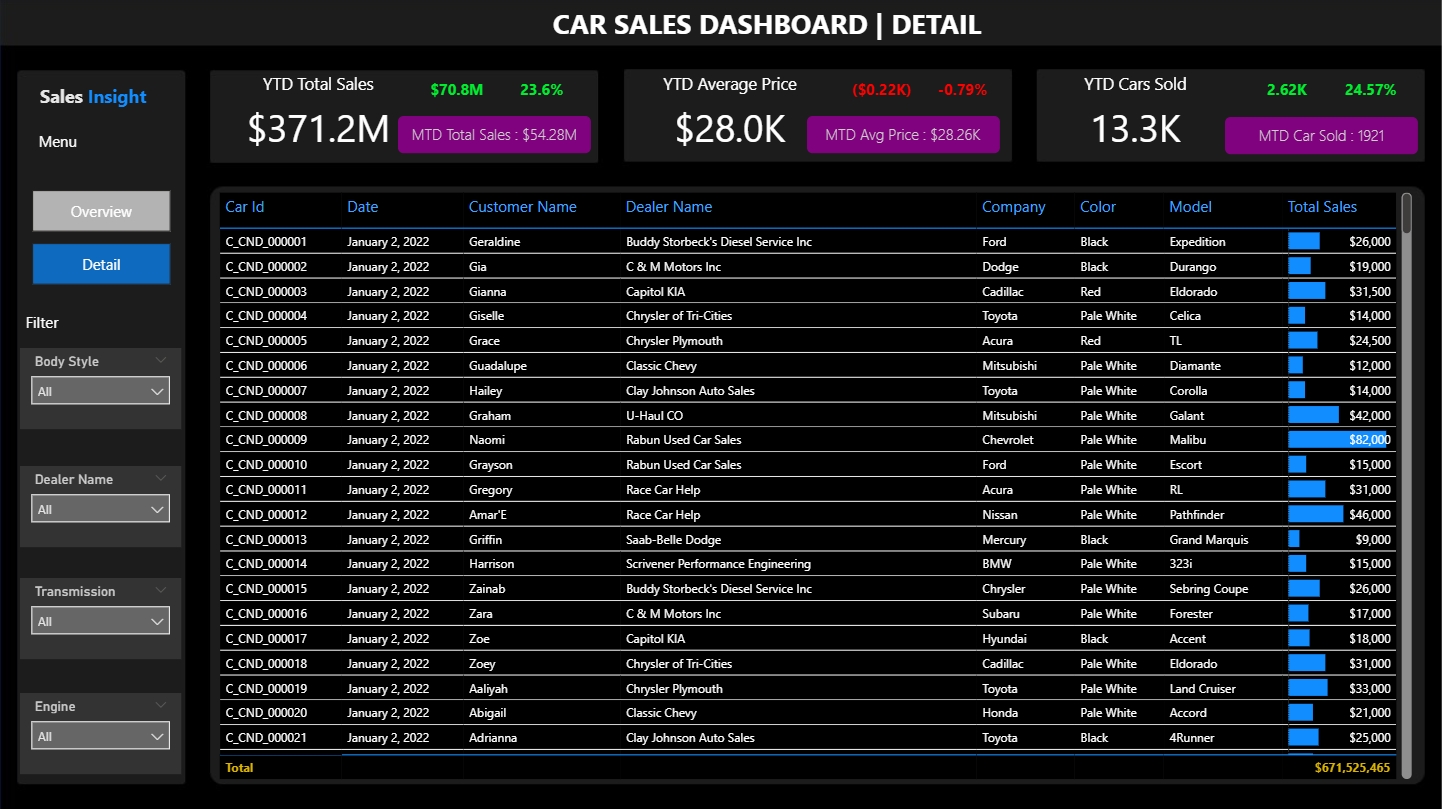

What the dashboard file says about the page in this screenshot:
{"tool":"powerbi","page":{"name":"Detail","canvas":[1280,720],"ordinal":1},"visuals":[{"type":"advanceCardE03760C5AB684758B56AA29F9E6C257B","title":"YTD Total Sales","fields":{"mainMeasure":["car_data.YTD Total Sales"]},"box":[189.7,65.2,186.7,77.8],"z":0},{"type":"advanceCardE03760C5AB684758B56AA29F9E6C257B","fields":{"mainMeasure":["car_data.Sale Diff"]},"box":[361.8,65.2,88.5,26.3],"z":1000},{"type":"advanceCardE03760C5AB684758B56AA29F9E6C257B","fields":{"mainMeasure":["car_data.YoY Sales Growth"]},"box":[436.7,65.2,88.5,26.3],"z":2000},{"type":"advanceCardE03760C5AB684758B56AA29F9E6C257B","title":"MTD Total Sales","fields":{"mainMeasure":["car_data.MTD KPI"]},"box":[354,104.1,171.2,33.1],"z":3000},{"type":"advanceCardE03760C5AB684758B56AA29F9E6C257B","title":"YTD Average Price","fields":{"mainMeasure":["car_data.YTD Avg Price"]},"box":[557.3,65.2,180.9,77.8],"z":4000},{"type":"advanceCardE03760C5AB684758B56AA29F9E6C257B","fields":{"mainMeasure":["car_data.Price Diff"]},"box":[738.2,65.2,88.5,26.3],"z":5000},{"type":"advanceCardE03760C5AB684758B56AA29F9E6C257B","fields":{"mainMeasure":["car_data.YoY Price Growth"]},"box":[810.2,65.2,88.5,26.3],"z":6000},{"type":"advanceCardE03760C5AB684758B56AA29F9E6C257B","title":"MTD Total Sales","fields":{"mainMeasure":["car_data.MTD Price"]},"box":[716.8,104.1,171.2,33.1],"z":7000},{"type":"advanceCardE03760C5AB684758B56AA29F9E6C257B","title":"YTD Cars Sold","fields":{"mainMeasure":["car_data.YTD Car Sold"]},"box":[917.9,64.9,180.1,77.7],"z":8000},{"type":"advanceCardE03760C5AB684758B56AA29F9E6C257B","title":"MTD Total Sales","fields":{"mainMeasure":["car_data.Car Sold KPI"]},"box":[1087.1,104.2,171,32.9],"z":9000},{"type":"advanceCardE03760C5AB684758B56AA29F9E6C257B","fields":{"mainMeasure":["car_data.Car Sold Diff"]},"box":[1098.1,64.9,88.7,26.5],"z":10000},{"type":"advanceCardE03760C5AB684758B56AA29F9E6C257B","fields":{"mainMeasure":["car_data.Car Sold Growth"]},"box":[1172.1,64.9,88.7,26.5],"z":11000},{"type":"textbox","box":[436.3,0,489.7,42.5],"z":17000},{"type":"slicer","fields":{"Values":["car_data.Body Style"]},"box":[19,309.6,143,71.5],"z":18000},{"type":"slicer","fields":{"Values":["car_data.Dealer_Name"]},"box":[19,413.7,143,71.5],"z":19000},{"type":"slicer","fields":{"Values":["car_data.Transmission"]},"box":[19,513.3,143,71.5],"z":20000},{"type":"slicer","fields":{"Values":["car_data.Engine"]},"box":[19,615.6,143,71.5],"z":21000},{"type":"textbox","box":[19,273.4,43.5,29],"z":22000},{"type":"tableEx","fields":{"Values":["car_data.Car_id","car_data.Date","car_data.Customer Name","car_data.Dealer_Name","car_data.Company","car_data.Color","car_data.Model","Sum(car_data.Price ($))"]},"box":[190.1,166.6,1068.2,530.5],"z":22001},{"type":"pageNavigator","box":[29,169.3,123.1,86],"z":22002},{"type":"textbox","box":[29.9,69.7,106.8,42.5],"z":22003},{"type":"textbox","box":[29.9,112.2,45.3,32.6],"z":22004}]}

Visuals, with their boxes in screenshot pixels (x1, y1, x2, y2), scaled from the page's 1280x720 canvas onto the 1442x810 screenshot:
"YTD Total Sales" advanceCardE03760C5AB684758B56AA29F9E6C257B: crop(214, 73, 424, 161)
advanceCardE03760C5AB684758B56AA29F9E6C257B - car_data.Sale Diff: crop(408, 73, 507, 103)
advanceCardE03760C5AB684758B56AA29F9E6C257B - car_data.YoY Sales Growth: crop(492, 73, 592, 103)
"MTD Total Sales" advanceCardE03760C5AB684758B56AA29F9E6C257B: crop(399, 117, 592, 154)
"YTD Average Price" advanceCardE03760C5AB684758B56AA29F9E6C257B: crop(628, 73, 832, 161)
advanceCardE03760C5AB684758B56AA29F9E6C257B - car_data.Price Diff: crop(832, 73, 931, 103)
advanceCardE03760C5AB684758B56AA29F9E6C257B - car_data.YoY Price Growth: crop(913, 73, 1012, 103)
"MTD Total Sales" advanceCardE03760C5AB684758B56AA29F9E6C257B: crop(808, 117, 1000, 154)
"YTD Cars Sold" advanceCardE03760C5AB684758B56AA29F9E6C257B: crop(1034, 73, 1237, 160)
"MTD Total Sales" advanceCardE03760C5AB684758B56AA29F9E6C257B: crop(1225, 117, 1417, 154)
advanceCardE03760C5AB684758B56AA29F9E6C257B - car_data.Car Sold Diff: crop(1237, 73, 1337, 103)
advanceCardE03760C5AB684758B56AA29F9E6C257B - car_data.Car Sold Growth: crop(1320, 73, 1420, 103)
textbox: crop(492, 0, 1043, 48)
slicer - car_data.Body Style: crop(21, 348, 183, 429)
slicer - car_data.Dealer_Name: crop(21, 465, 183, 546)
slicer - car_data.Transmission: crop(21, 577, 183, 658)
slicer - car_data.Engine: crop(21, 693, 183, 773)
textbox: crop(21, 308, 70, 340)
tableEx - car_data.Car_id x car_data.Date: crop(214, 187, 1418, 784)
pageNavigator: crop(33, 190, 171, 287)
textbox: crop(34, 78, 154, 126)
textbox: crop(34, 126, 85, 163)
